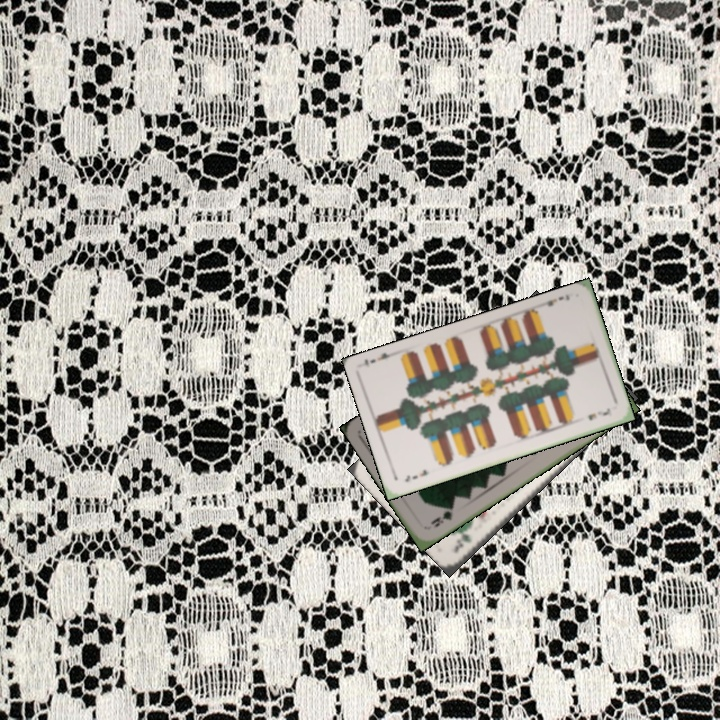E7: (537, 290, 572, 309), (401, 465, 430, 485)
G9: (426, 503, 456, 530)
GK: (450, 530, 475, 556)
